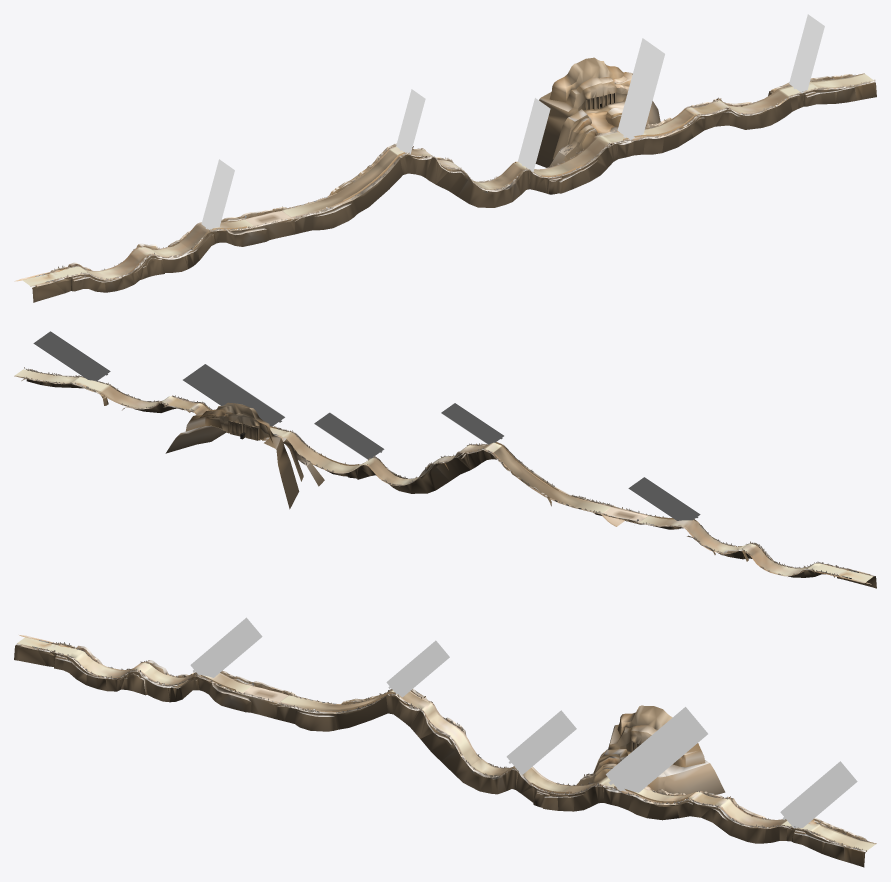
File: Desert_07.fbx
The picture shows the model from 3 angles, top to bottom: view 1: azimuth 30°, elevation 25°; view 2: azimuth 150°, elevation 25°; view 3: azimuth 330°, elevation 25°; orthographic projection.
Parts seen in each view (by area): view 1: Mountain_01, Light_01, Ground_01, Road_01, Tree_01; view 2: Mountain_01, Light_01, Ground_01, Road_01, Tree_01; view 3: Mountain_01, Light_01, Ground_01, Road_01, Tree_01.
Boxes of the visible parts, box(x1,y1,x2,y2) form: Mountain_01: box(14, 57, 876, 302); Light_01: box(201, 14, 824, 229); Ground_01: box(22, 74, 872, 285); Road_01: box(30, 73, 873, 286); Tree_01: box(48, 74, 875, 280); Mountain_01: box(21, 368, 876, 588); Light_01: box(33, 331, 700, 520); Ground_01: box(16, 369, 872, 582); Road_01: box(14, 375, 873, 583); Tree_01: box(21, 367, 850, 575); Mountain_01: box(14, 635, 874, 867); Light_01: box(190, 617, 857, 828); Ground_01: box(18, 637, 874, 850); Road_01: box(17, 639, 876, 851); Tree_01: box(40, 642, 868, 851).
Size of the model in its own units: 78651 by 10941 by 7720.
